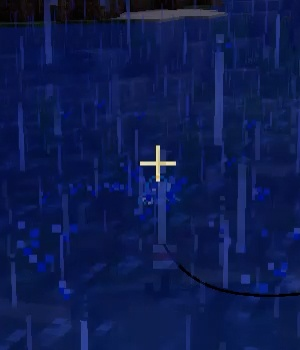up: (140, 183, 173, 215)
